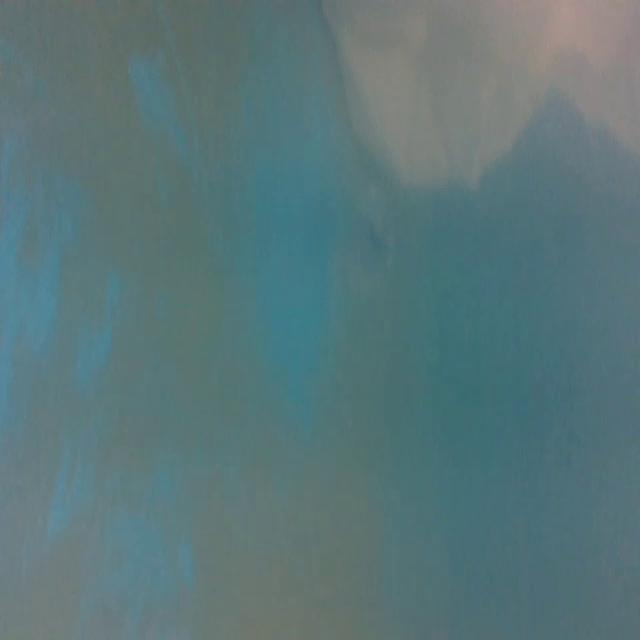plastic bags: (317, 0, 640, 193)
